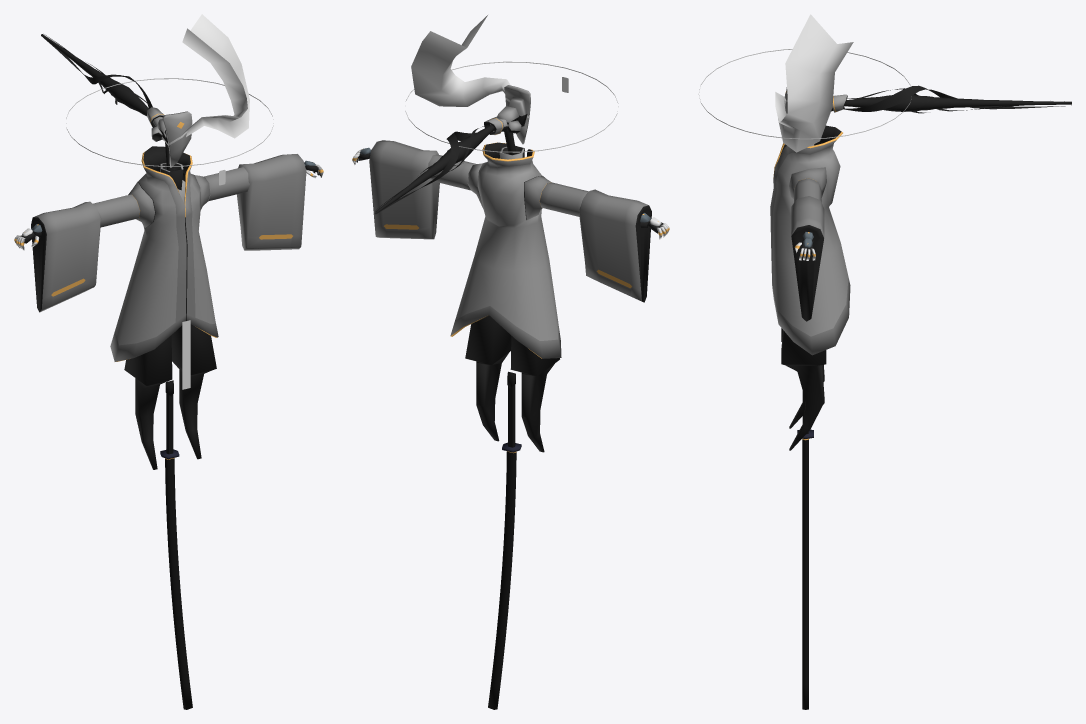
File: GEKKOU_lowpoly.fbx
The picture shows the model from 3 angles, left to right: view 1: azimuth 30°, elevation 25°; view 2: azimuth 150°, elevation 25°; view 3: azimuth 270°, elevation 25°; orthographic projection. The views are drawn at different scales.
Visible parts, largest first — view 1: Circle, Circle.007, Circle.004, legs, BezierCurve.001, Cube.032, BezierCurve, Cube.002, Circle.006, Circle.002, Cube.031, Info_circle (+2 smaller); view 2: Circle, Circle.007, Circle.004, legs, BezierCurve.001, Cube.032, BezierCurve, Circle.006, Circle.002, Cube.031, Circle.005, Info_circle (+1 smaller); view 3: Circle, BezierCurve.001, BezierCurve, Circle.004, legs, Cube.032.
Boxes of the visible parts, <box> form: Circle: <box>110,146,218,361</box>; Circle.007: <box>31,201,101,312</box>; Circle.004: <box>237,154,306,250</box>; legs: <box>124,324,216,469</box>; BezierCurve.001: <box>176,14,249,140</box>; Cube.032: <box>165,458,192,709</box>; BezierCurve: <box>41,34,152,116</box>; Cube.002: <box>162,111,192,167</box>; Circle.006: <box>93,194,139,227</box>; Circle.002: <box>204,167,249,201</box>; Cube.031: <box>160,380,179,459</box>; Info_circle: <box>66,78,273,185</box>; Circle: <box>450,142,561,358</box>; Circle.007: <box>579,189,651,302</box>; Circle.004: <box>369,140,439,239</box>; legs: <box>465,315,559,452</box>; BezierCurve.001: <box>411,15,510,106</box>; Cube.032: <box>488,451,516,709</box>; BezierCurve: <box>374,124,494,214</box>; Circle.006: <box>539,182,588,216</box>; Circle.002: <box>428,154,476,190</box>; Cube.031: <box>502,371,521,452</box>; Circle.005: <box>524,176,551,220</box>; Info_circle: <box>405,61,618,152</box>; Circle: <box>770,125,850,355</box>; BezierCurve.001: <box>775,14,853,152</box>; BezierCurve: <box>843,85,1071,113</box>; Circle.004: <box>791,196,824,321</box>; legs: <box>781,328,826,450</box>; Cube.032: <box>802,438,808,709</box>.
Size of the model in its own units: 164 by 350 by 171.
